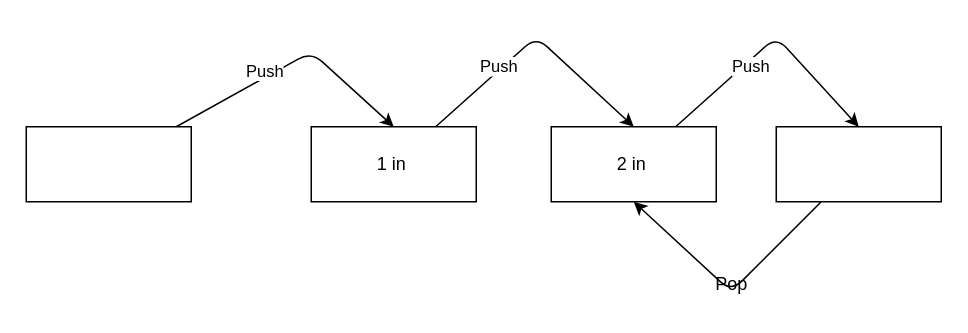
Some shapes in this 968 by 333 pixel diagram are drawn without their labels. Each missing label, with the centre of its shape:
3 in: point (858, 163)
EmptyStack: point (108, 163)
